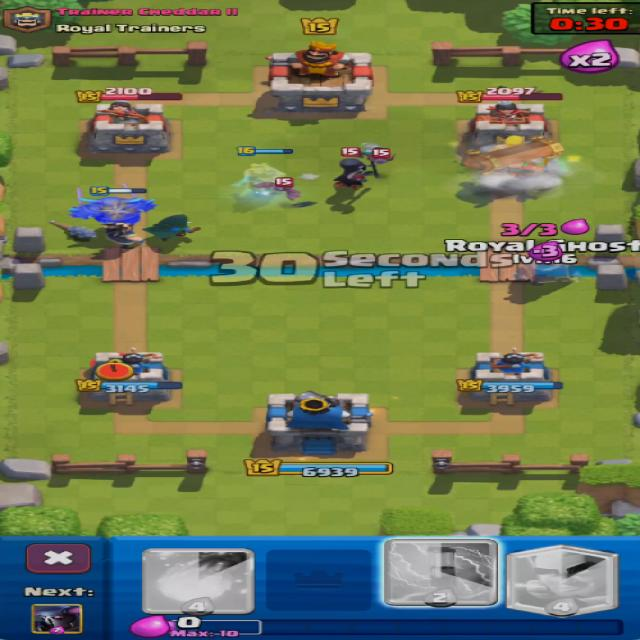Enemy-Bat: (256, 177, 300, 199), (367, 148, 398, 166)
Enemy-KingTower: (269, 41, 372, 114)
Enemy-NightWitch: (334, 158, 366, 189)
Enemy-PrincessTower: (83, 97, 168, 154), (461, 101, 552, 149)
